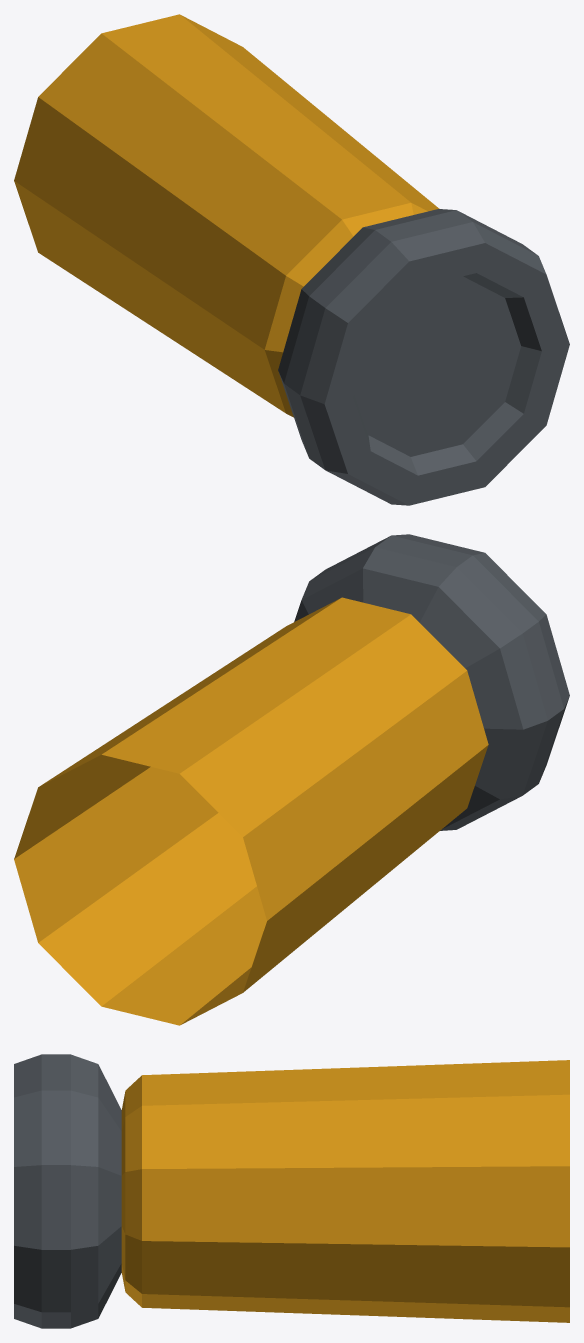
File: Personal_Vehicle_01_Head_Light_Big_Yellow.fbx
The picture shows the model from 3 angles, top to bottom: view 1: azimuth 30°, elevation 25°; view 2: azimuth 150°, elevation 25°; view 3: azimuth 270°, elevation 25°; orthographic projection. The views are drawn at different scales.
Visible parts, largest first — view 1: Personal_Vehicle_01_Head_Light_Big_Yellow; view 2: Personal_Vehicle_01_Head_Light_Big_Yellow; view 3: Personal_Vehicle_01_Head_Light_Big_Yellow.
Boxes of the visible parts, x1=… form: Personal_Vehicle_01_Head_Light_Big_Yellow: x1=14, y1=14, x2=569, y2=505; Personal_Vehicle_01_Head_Light_Big_Yellow: x1=14, y1=534, x2=569, y2=1025; Personal_Vehicle_01_Head_Light_Big_Yellow: x1=14, y1=1054, x2=569, y2=1328.
Size of the model in its own units: 32.7 by 31.1 by 65.84.
Materials: 2 (2 with a texture image).
